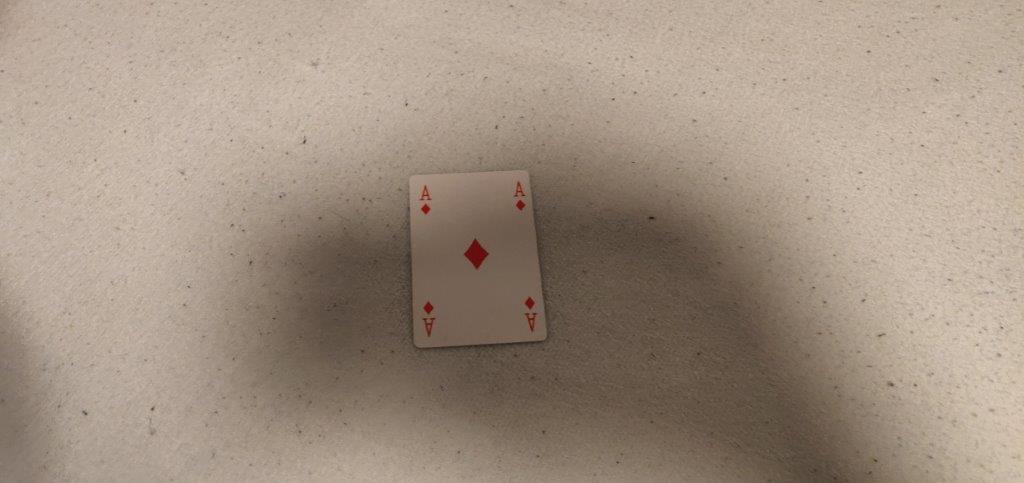AD: (417, 182, 436, 217), (512, 177, 528, 217)
